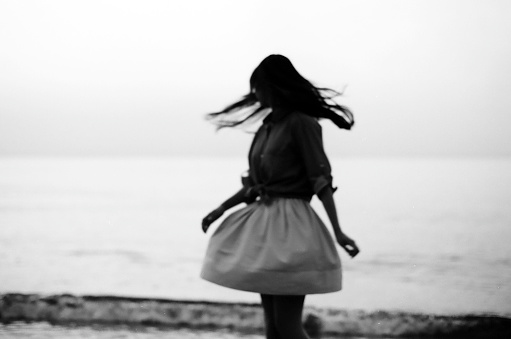em pe: (198, 32, 356, 339)
